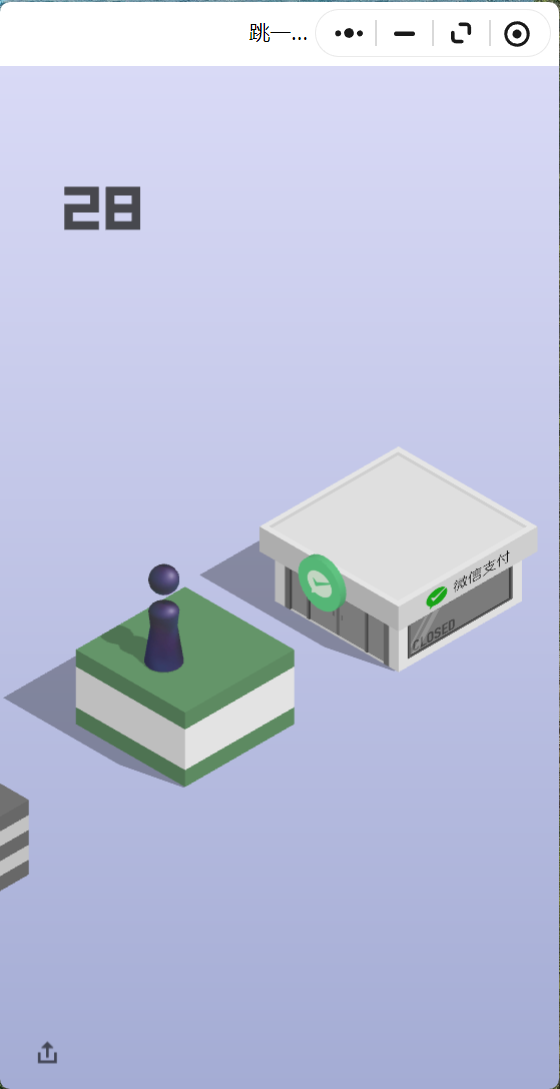piece: (148, 564, 179, 666)
target: (260, 447, 536, 606)
